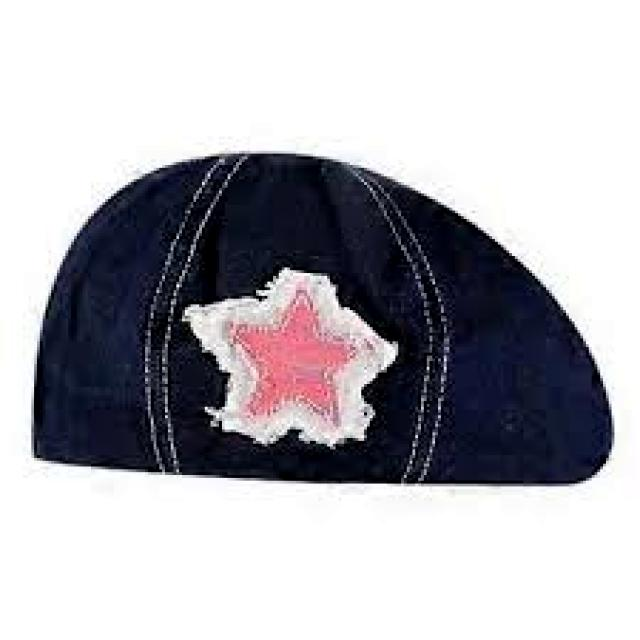hat: (35, 154, 611, 483)
